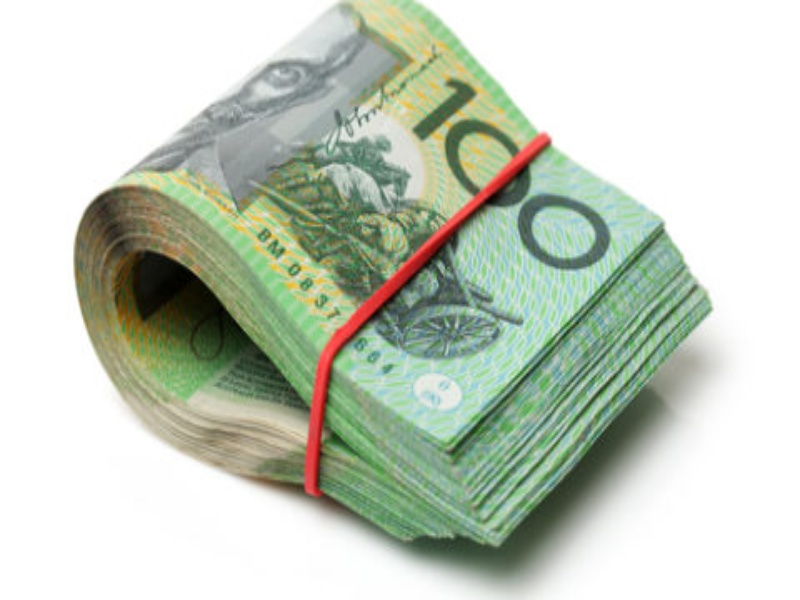cash: (73, 1, 713, 546)
